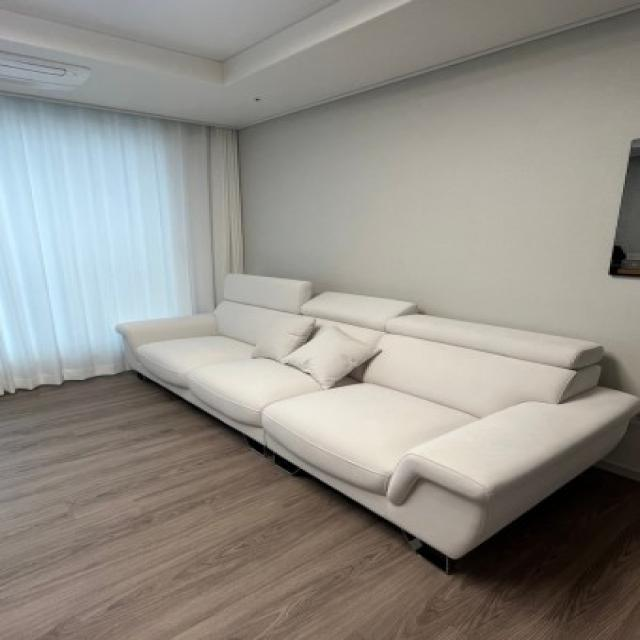Sofa: (113, 268, 640, 570)
window: (2, 96, 232, 314)
